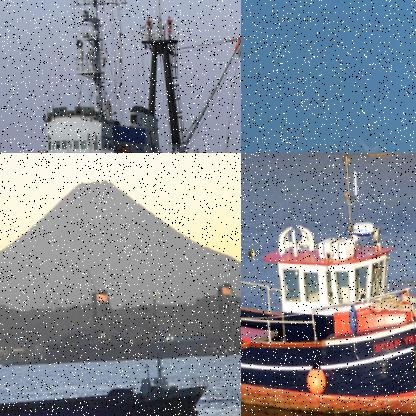Fishing Boat: (241, 153, 415, 415)
Merchant Ship: (0, 255, 212, 415)
Military Ship: (0, 0, 240, 152), (241, 91, 387, 152)
